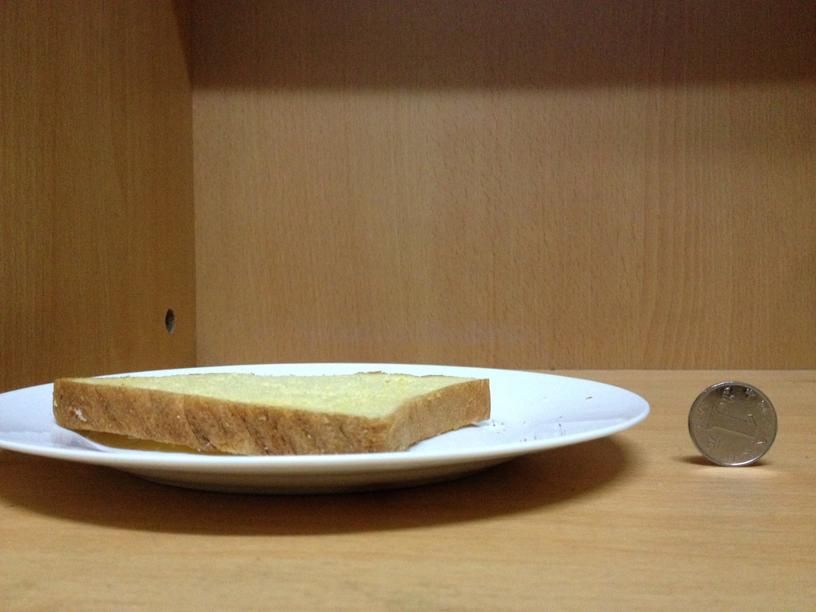bread: (54, 367, 492, 455)
coin: (686, 380, 776, 466)
